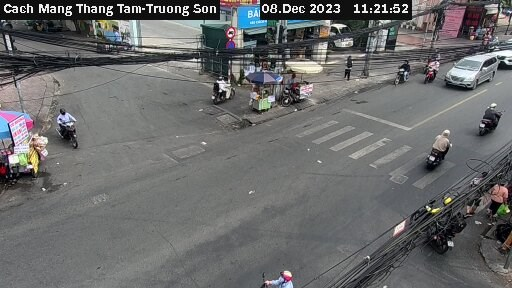car: (444, 50, 497, 95), (495, 41, 512, 68)
motorbike: (412, 197, 462, 255), (411, 122, 452, 171), (45, 115, 94, 151), (472, 101, 507, 135), (206, 78, 243, 107), (394, 61, 416, 91), (422, 59, 437, 86)
